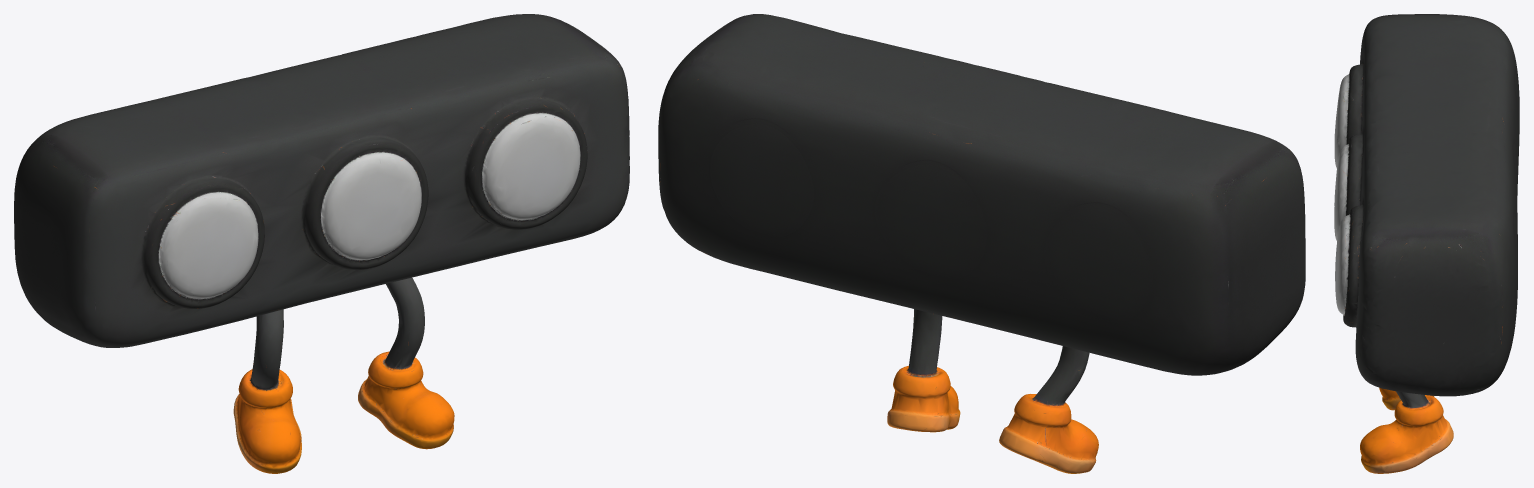
The model's file is Meshy_AI_Button_Trio_0613051647_texture.fbx.
3 views of the same model, side by side, from view 1: azimuth 30°, elevation 25°; view 2: azimuth 150°, elevation 25°; view 3: azimuth 270°, elevation 25° (orthographic). The views are drawn at different scales.
Visible parts, largest first — view 1: Mesh_0; view 2: Mesh_0; view 3: Mesh_0.
Boxes of the visible parts, <box> form: Mesh_0: <box>14,14,629,473</box>; Mesh_0: <box>658,14,1305,473</box>; Mesh_0: <box>1334,14,1519,473</box>.
Size of the model in its own units: 191 by 116 by 61.6.
1 material, 1 textured.
